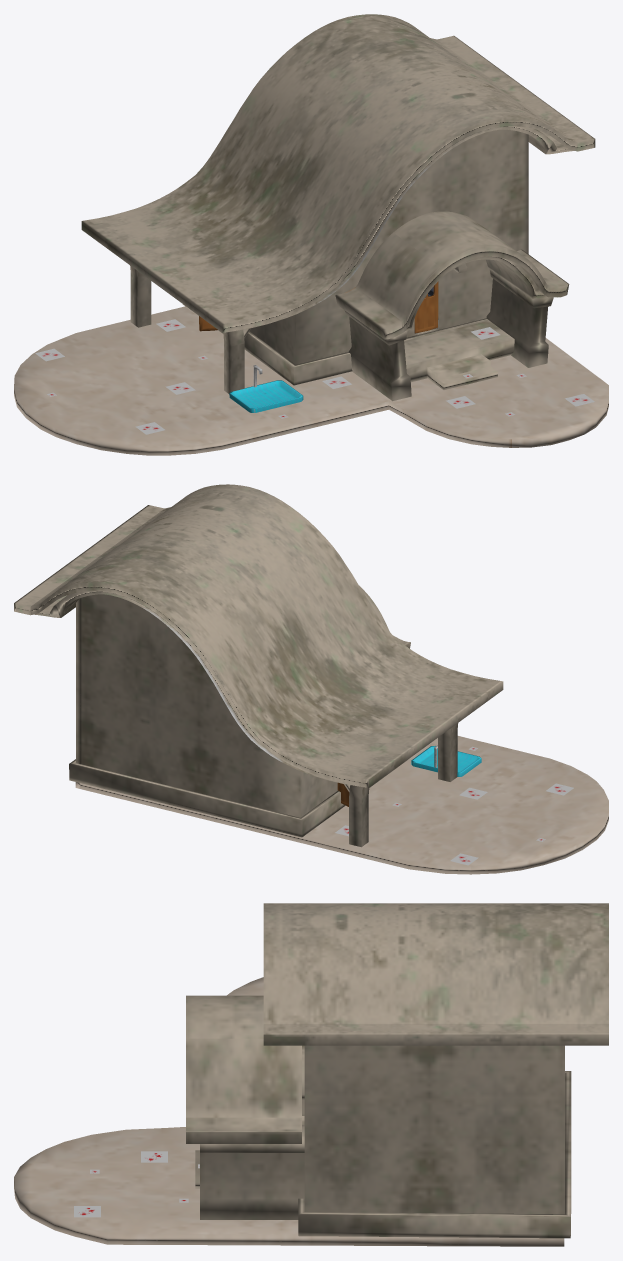
Rendered from MAP 2.fbx.
The picture shows the model from 3 angles, top to bottom: view 1: azimuth 30°, elevation 25°; view 2: azimuth 150°, elevation 25°; view 3: azimuth 270°, elevation 25°; orthographic projection. The views are drawn at different scales.
Visible parts, largest first — view 1: House, UP, Bathr, Door01; view 2: UP, House, Bathr; view 3: House, UP.
Part boxes in pixels (box(x1,y1,x2,y2)): House: box(14, 129, 608, 455); UP: box(81, 14, 595, 393); Bathr: box(229, 365, 303, 412); Door01: box(414, 281, 438, 333); UP: box(14, 484, 503, 847); House: box(69, 585, 608, 874); Bathr: box(411, 745, 481, 776); House: box(14, 977, 571, 1246); UP: box(263, 903, 608, 1045).
Bounding box in the file's own units: 1377 × 617 × 1130.
Materials: 4 (4 with a texture image).
